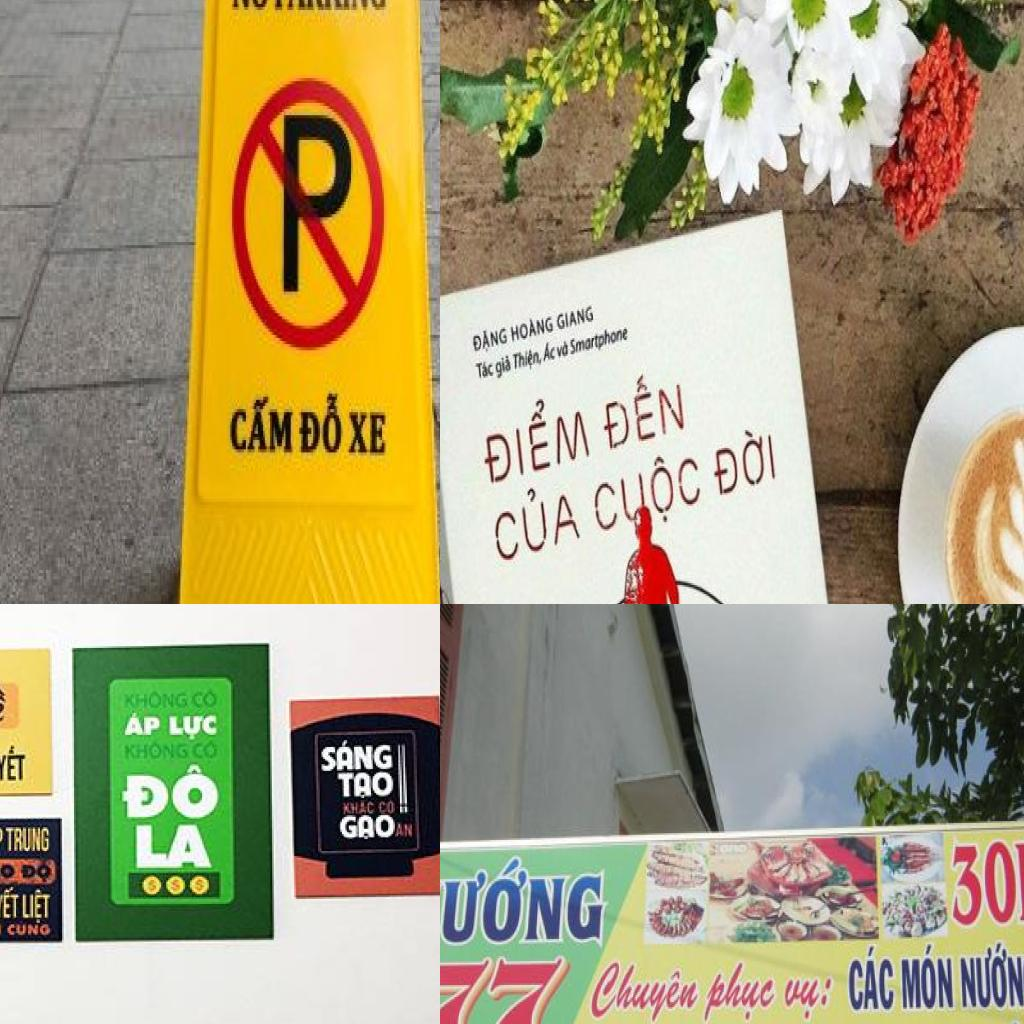text: (440, 850, 612, 950), (282, 116, 355, 316), (478, 388, 592, 492), (592, 442, 705, 544), (440, 955, 574, 1024), (493, 477, 582, 565), (601, 362, 686, 454), (585, 961, 706, 1024), (948, 841, 1024, 928), (122, 762, 221, 822), (699, 957, 780, 1024), (712, 421, 778, 498), (228, 394, 296, 462), (959, 942, 1024, 1012), (134, 824, 217, 872), (900, 942, 956, 1012), (847, 946, 897, 1014), (298, 390, 344, 462), (776, 976, 833, 1024), (320, 740, 395, 773), (570, 324, 629, 360), (273, 0, 390, 16), (337, 772, 395, 800), (339, 815, 398, 841), (511, 313, 556, 345), (170, 714, 219, 742), (471, 323, 510, 358), (6, 827, 52, 855), (126, 690, 188, 710), (21, 888, 54, 924), (126, 742, 188, 760), (556, 304, 595, 332), (0, 745, 28, 784), (122, 711, 163, 737), (513, 345, 543, 376), (21, 862, 54, 884), (0, 887, 21, 921), (6, 923, 52, 936), (495, 352, 514, 382), (342, 801, 376, 817), (194, 742, 219, 762), (192, 689, 217, 709), (474, 358, 495, 381), (396, 822, 416, 839), (0, 687, 9, 724), (544, 340, 557, 365), (556, 340, 570, 361), (0, 863, 17, 880), (380, 800, 396, 815)
